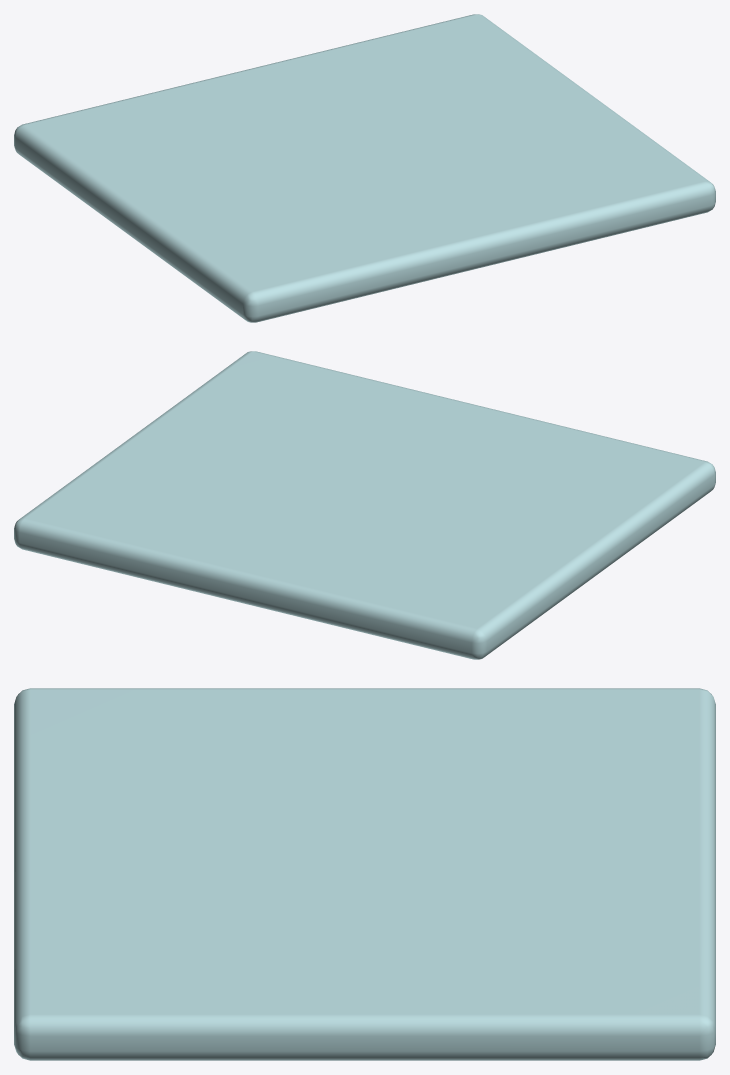
Rendered from BIO_Coverslip.fbx.
3 renders of one model, top to bottom at view 1: azimuth 30°, elevation 25°; view 2: azimuth 150°, elevation 25°; view 3: azimuth 270°, elevation 25°, orthographic. The views are drawn at different scales.
Parts seen in each view (by area): view 1: Coverslip; view 2: Coverslip; view 3: Coverslip.
Boxes of the visible parts, x1=… form: Coverslip: x1=14, y1=14, x2=715, y2=322; Coverslip: x1=14, y1=351, x2=715, y2=659; Coverslip: x1=14, y1=688, x2=715, y2=1060.
Size of the model in its own units: 9.7 by 0.6 by 8.5.
